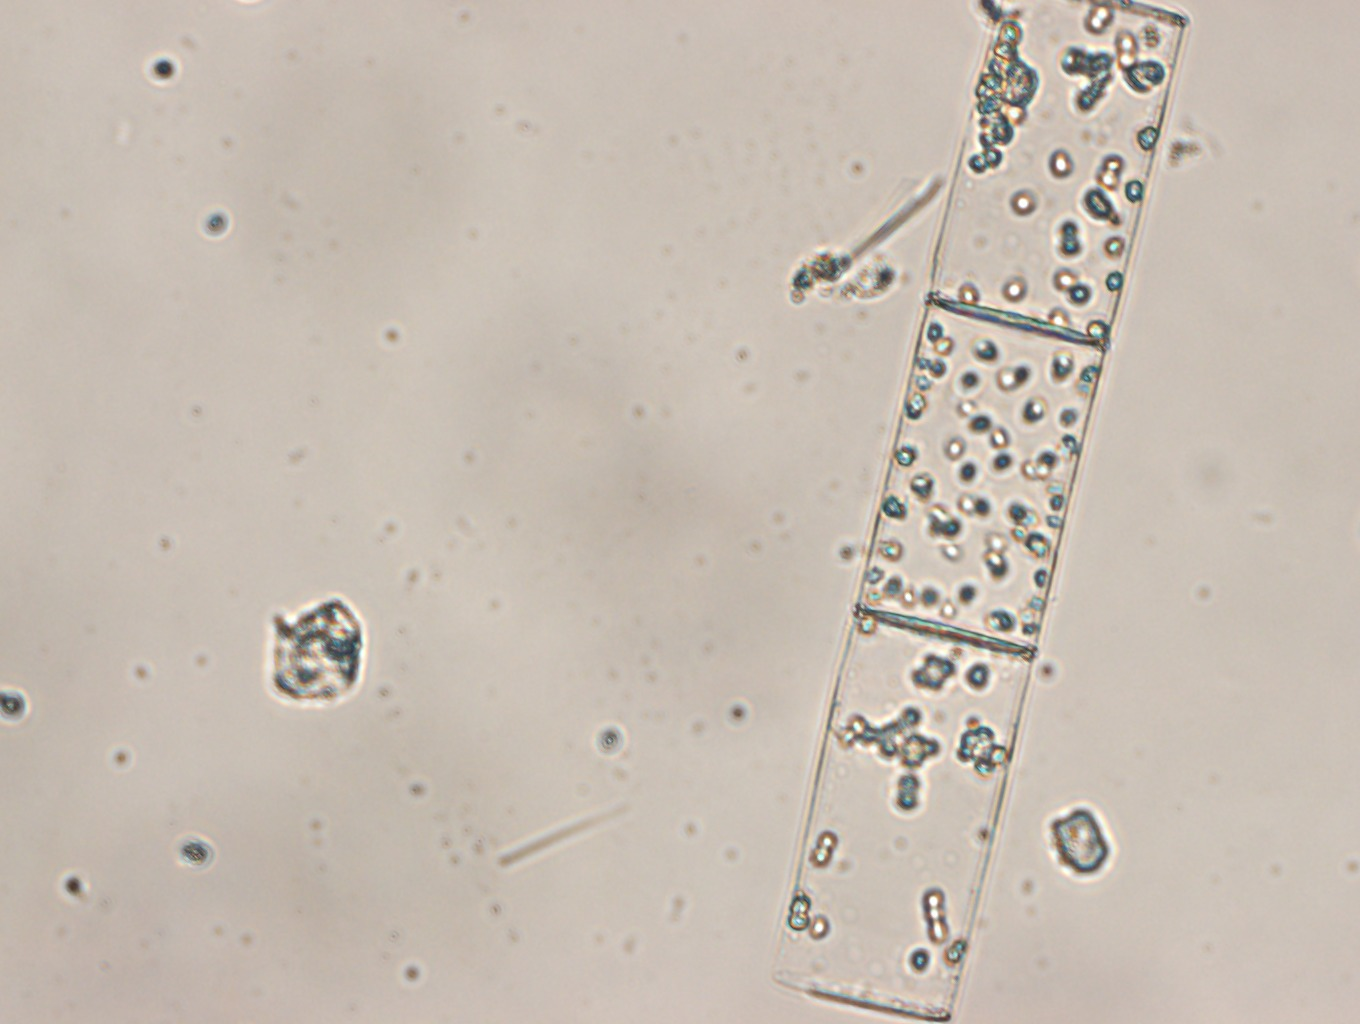guinardia flaccida: (770, 1, 1183, 1023)
